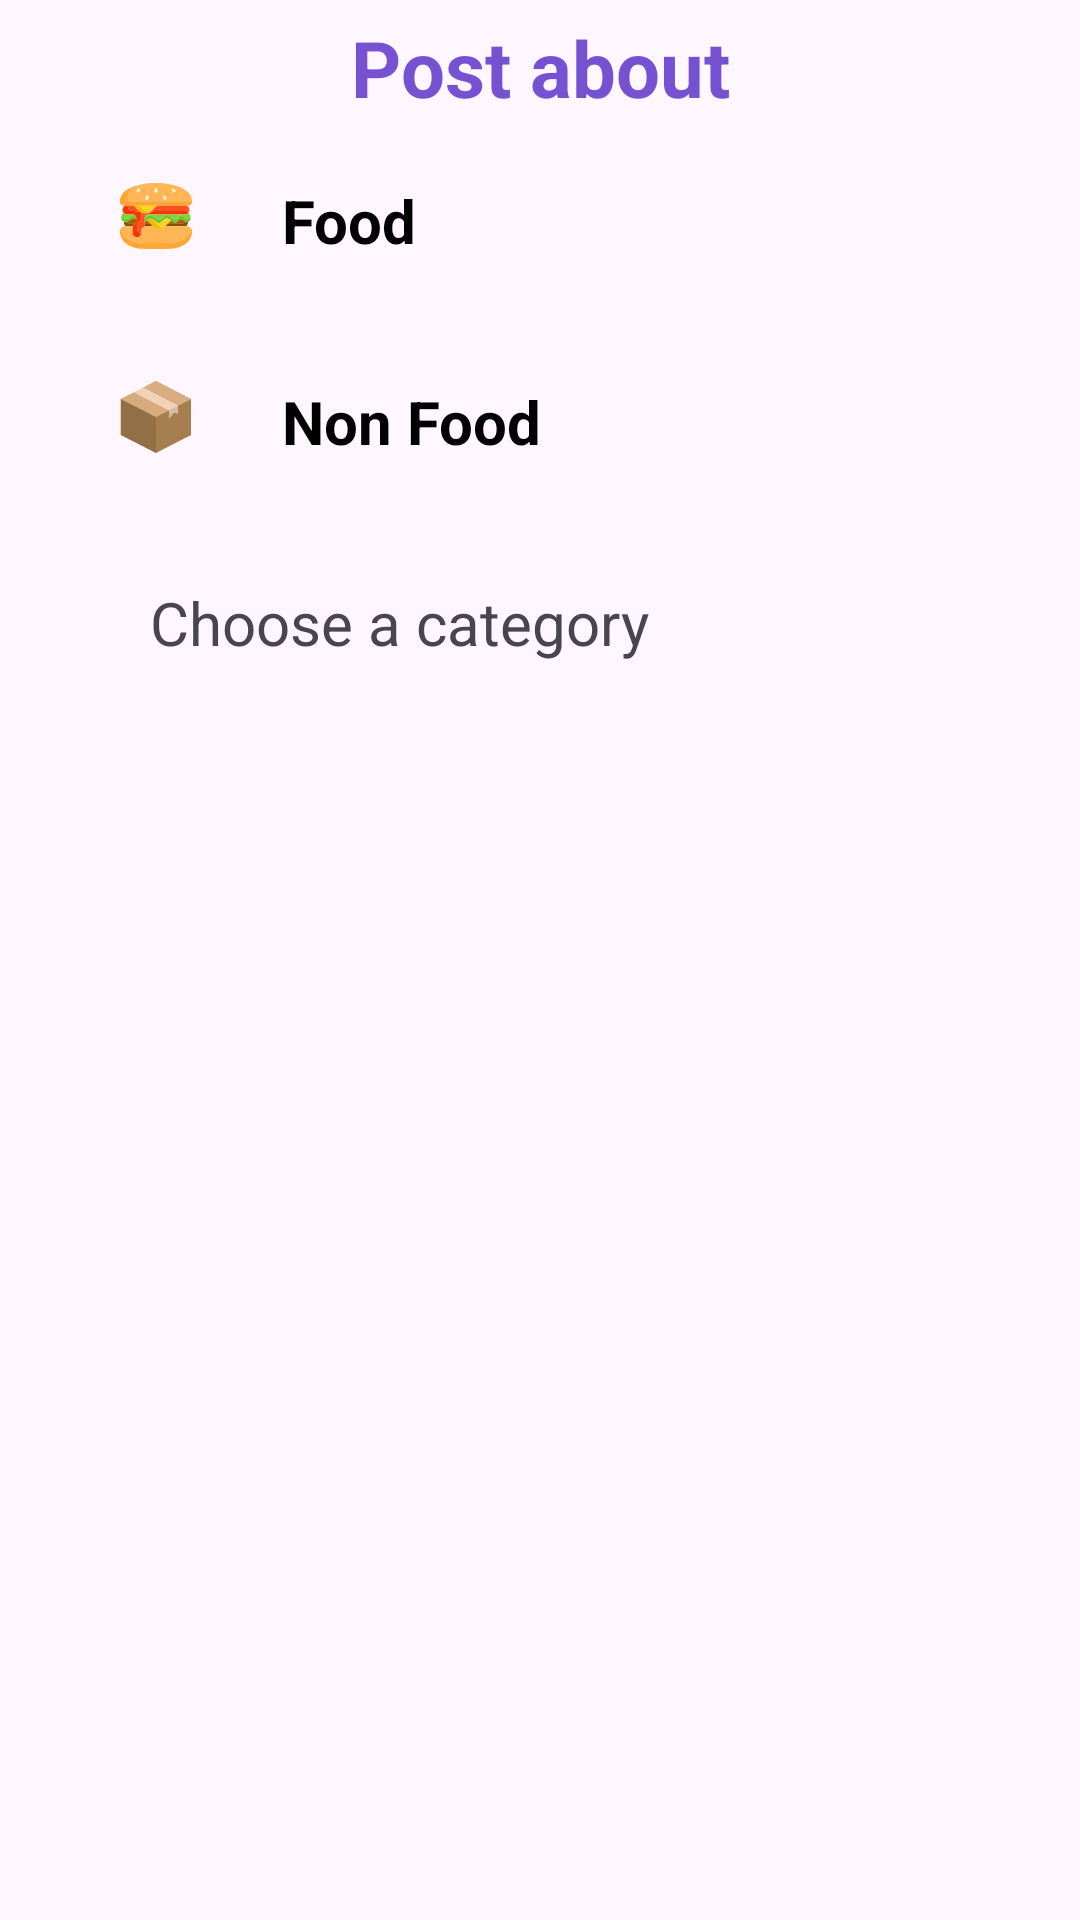

Icon bounding boxes for this 1080px×1920px phone screenshot, format (x1, y1, x2, y2):
box: (120, 381, 191, 453)
burger: (120, 183, 192, 249)
